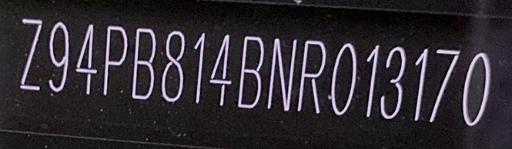letter: (426, 44, 466, 123), (266, 36, 298, 115), (460, 51, 494, 124), (295, 39, 327, 114), (234, 33, 264, 112), (328, 40, 358, 117), (13, 15, 43, 92), (378, 46, 408, 121), (130, 24, 158, 101), (160, 29, 188, 104), (405, 45, 431, 120), (46, 18, 70, 95), (72, 22, 98, 93), (101, 23, 125, 96), (209, 32, 233, 105), (359, 41, 379, 118), (188, 31, 208, 104)
